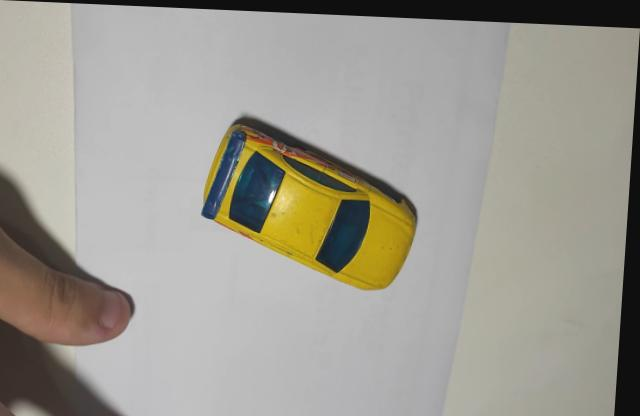02_OZSOME: (203, 112, 421, 286)
